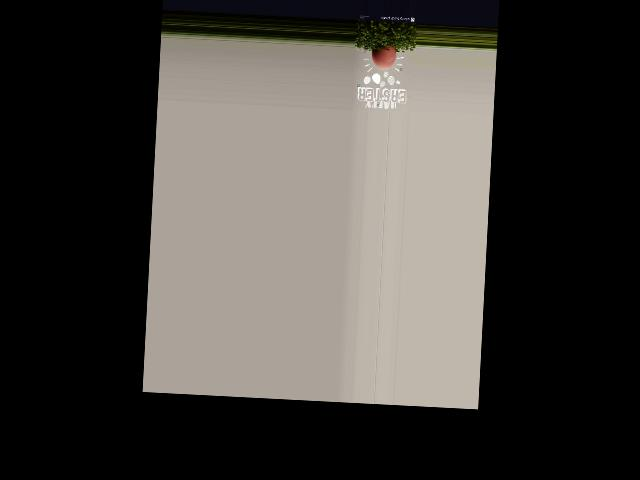egg: (370, 45, 395, 70)
